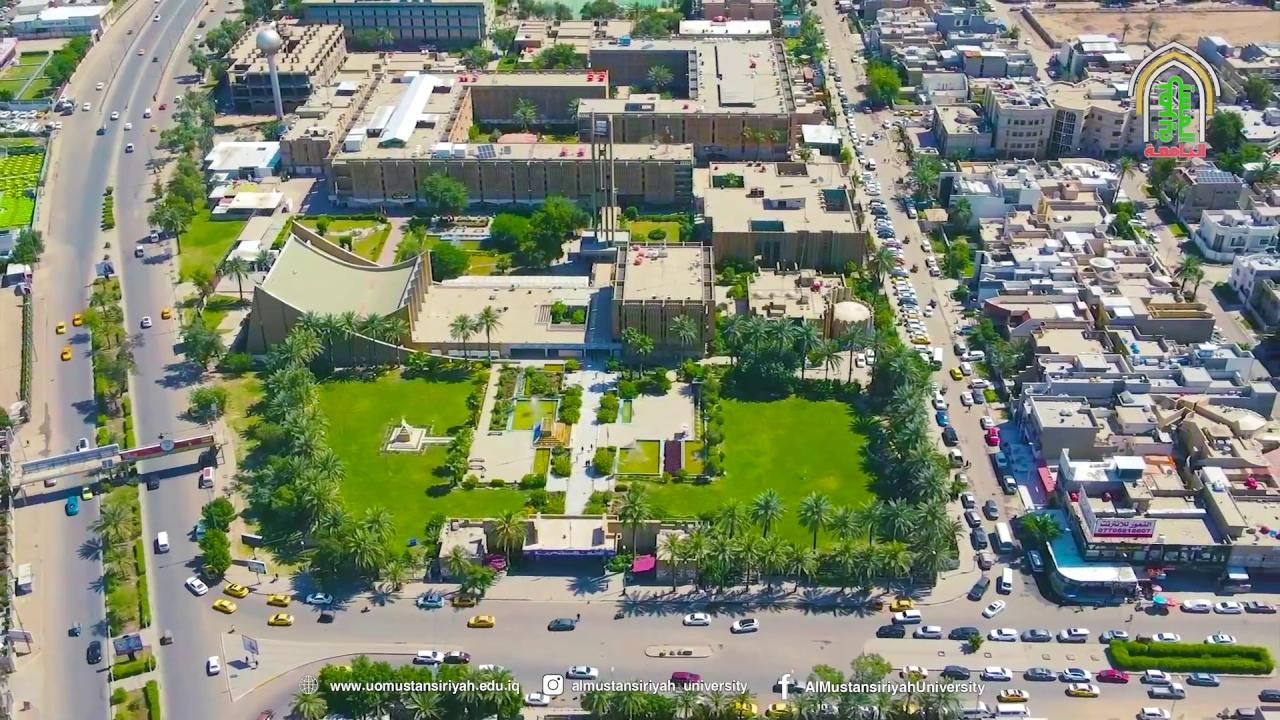car: (772, 674, 805, 694), (1056, 626, 1089, 642), (669, 672, 700, 688), (979, 666, 1012, 681), (1242, 600, 1277, 614), (412, 650, 444, 665), (891, 609, 921, 625), (1140, 668, 1170, 684), (415, 592, 443, 609), (1096, 669, 1130, 683), (1136, 706, 1172, 719), (939, 665, 970, 680), (948, 626, 979, 641), (565, 665, 598, 679), (185, 576, 208, 596), (981, 600, 1005, 619), (1098, 629, 1128, 644), (986, 628, 1018, 642), (1180, 600, 1212, 614), (682, 611, 711, 626), (730, 618, 759, 633), (875, 624, 905, 638), (899, 665, 927, 680), (524, 692, 550, 708), (1187, 673, 1219, 686), (996, 688, 1028, 701), (547, 618, 576, 632), (913, 626, 942, 640), (443, 650, 470, 665), (212, 598, 237, 614), (484, 553, 506, 571), (466, 614, 494, 628), (223, 583, 249, 598), (1214, 601, 1244, 614), (86, 640, 102, 664), (267, 612, 294, 626), (1204, 632, 1235, 644), (306, 592, 334, 605), (154, 531, 169, 554), (452, 594, 476, 608), (1152, 632, 1181, 643), (206, 655, 220, 676), (266, 594, 290, 606), (64, 496, 78, 516), (1258, 689, 1279, 702), (193, 523, 206, 541), (257, 709, 275, 719), (321, 713, 348, 719), (60, 346, 71, 360), (81, 486, 92, 500), (147, 478, 159, 490), (72, 313, 83, 326), (55, 321, 66, 334), (140, 316, 151, 328), (43, 478, 57, 487), (134, 245, 143, 258), (160, 308, 170, 319), (149, 232, 159, 243), (125, 143, 134, 152), (95, 82, 104, 90), (153, 13, 160, 21)
fountain: (512, 397, 556, 433), (615, 440, 658, 475), (422, 231, 493, 250), (686, 442, 706, 476), (532, 447, 549, 479), (620, 398, 637, 424)
tree: (654, 487, 963, 598), (230, 363, 347, 556), (289, 654, 524, 719), (778, 649, 964, 719), (73, 278, 142, 416), (76, 502, 141, 638), (528, 194, 583, 260), (826, 503, 862, 592), (147, 192, 196, 255), (443, 544, 494, 601), (615, 482, 652, 558), (84, 281, 124, 350), (178, 321, 225, 374), (795, 490, 834, 552), (270, 325, 323, 370), (489, 508, 528, 568), (86, 501, 137, 546), (420, 172, 468, 219), (488, 212, 532, 263), (752, 532, 788, 592), (654, 531, 689, 592), (683, 526, 715, 591), (166, 156, 204, 209), (734, 312, 774, 362), (748, 488, 788, 537), (668, 312, 698, 377), (443, 425, 475, 485), (1205, 108, 1245, 155), (864, 58, 902, 107), (729, 531, 760, 591), (620, 325, 654, 379), (878, 540, 912, 594), (904, 155, 942, 202), (197, 527, 232, 577), (474, 305, 503, 365), (187, 385, 229, 426), (784, 542, 819, 591), (849, 649, 892, 688), (447, 312, 478, 366), (556, 384, 583, 446), (422, 511, 446, 580), (1170, 252, 1203, 302), (806, 336, 842, 381), (356, 312, 387, 364), (430, 241, 470, 281), (1146, 156, 1178, 206), (1019, 511, 1062, 548), (217, 253, 249, 302), (939, 230, 970, 280), (712, 497, 748, 540), (841, 320, 865, 384), (10, 227, 44, 267), (199, 496, 237, 531), (361, 504, 395, 543), (534, 42, 579, 71), (289, 686, 328, 719), (382, 315, 407, 366), (866, 245, 895, 286), (1241, 72, 1273, 109), (188, 266, 214, 309), (463, 385, 487, 429), (1109, 199, 1135, 237), (741, 124, 766, 163), (511, 97, 538, 132), (487, 25, 517, 56), (646, 63, 673, 93), (595, 393, 619, 423), (708, 439, 728, 474), (99, 184, 114, 230), (566, 96, 582, 137), (592, 447, 615, 475), (952, 196, 972, 225), (766, 128, 781, 160), (616, 378, 638, 399), (315, 216, 330, 235)
